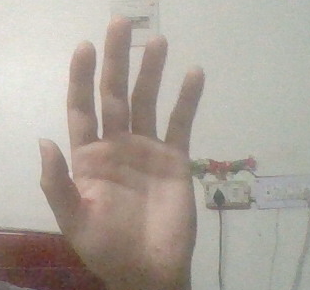move: (37, 15, 211, 275)
